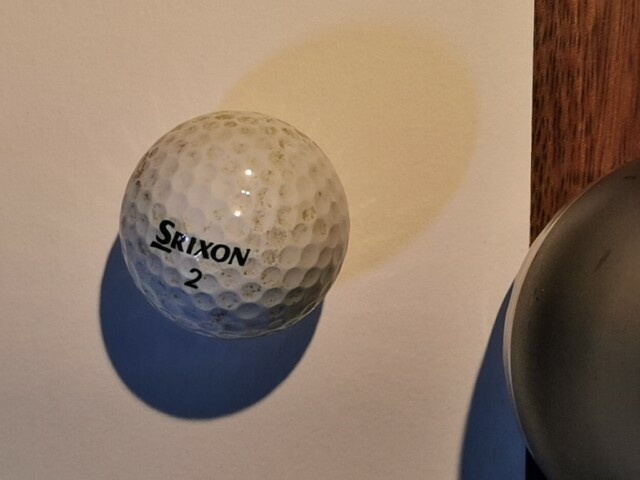Ball: (119, 110, 351, 340)
Srixon: (150, 220, 251, 266)
